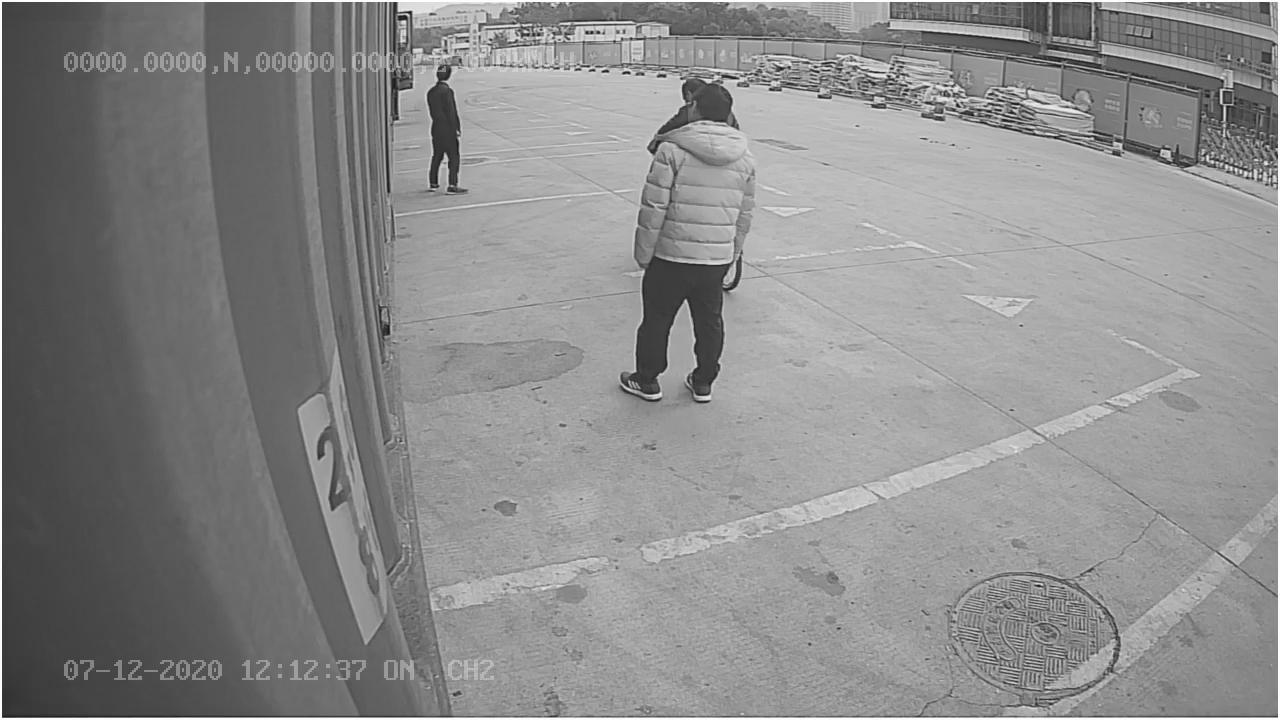person: (616, 84, 763, 410)
